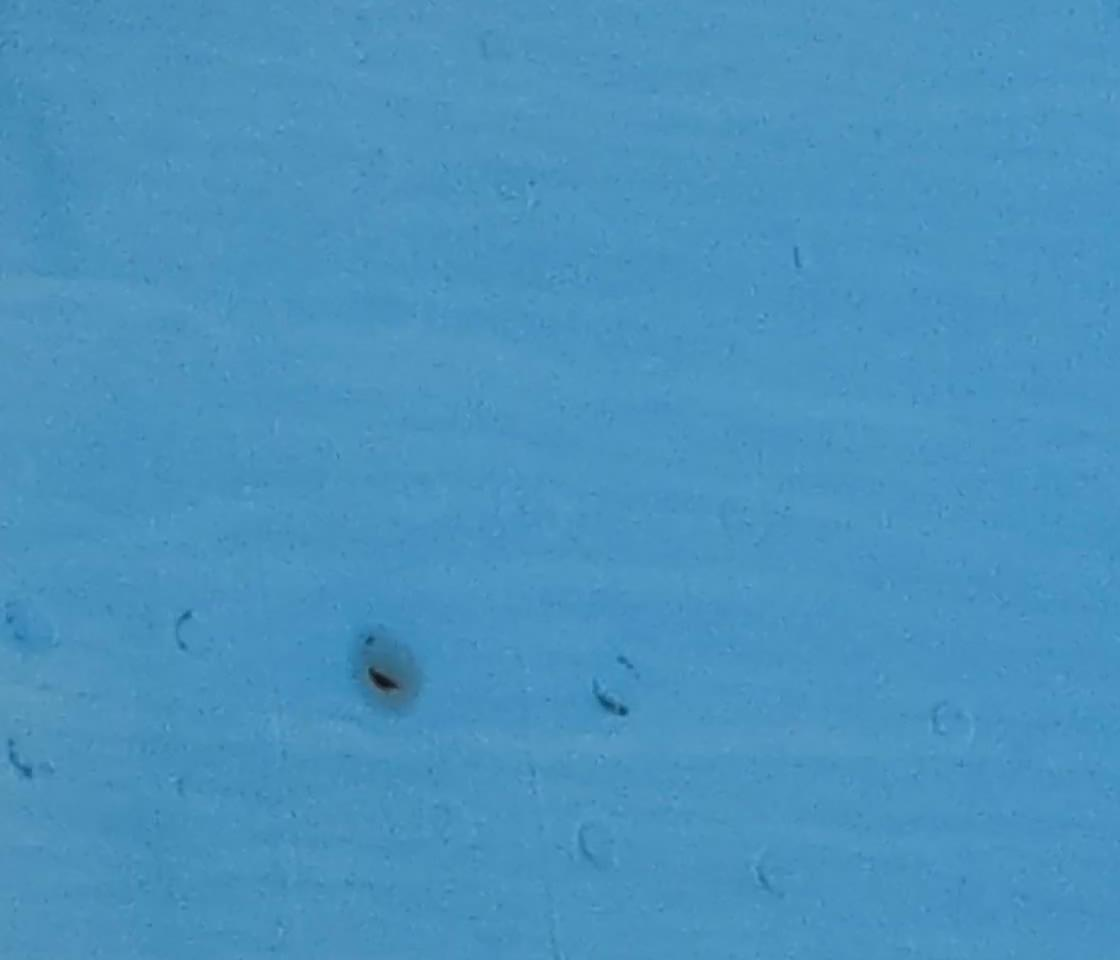scratch: (359, 663, 413, 700)
